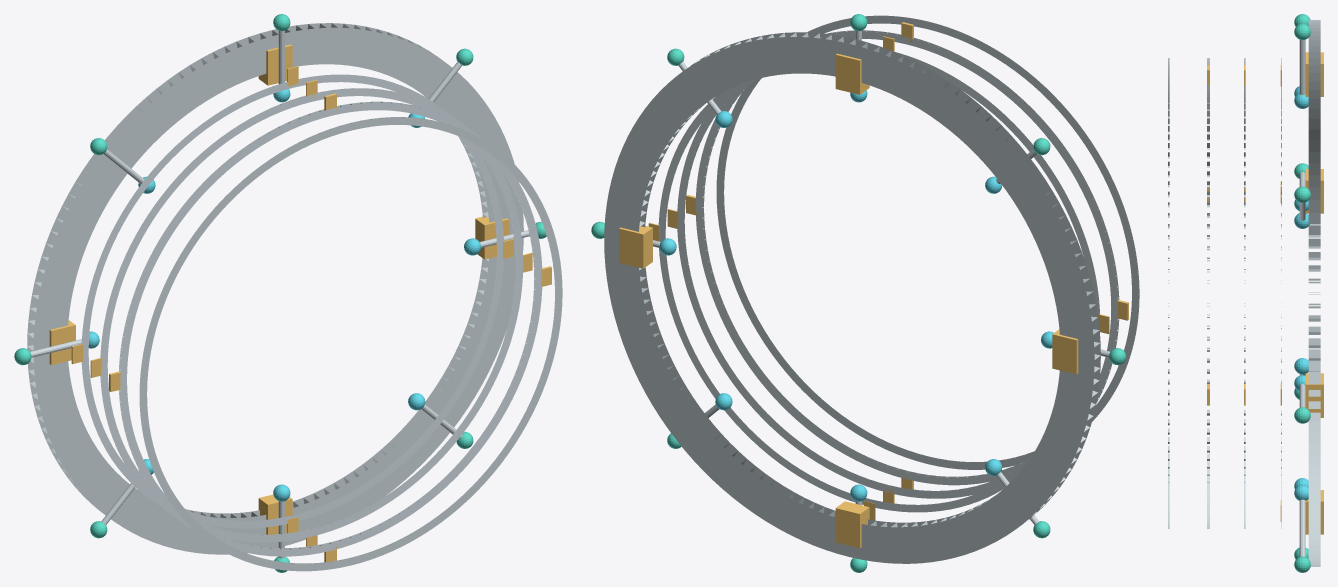
The model's file is CAGE-GAP-RING-fixture.glb.
3 renders of one model, left to right at view 1: azimuth 30°, elevation 25°; view 2: azimuth 150°, elevation 25°; view 3: azimuth 270°, elevation 25°, orthographic. The views are drawn at different scales.
Parts seen in each view (by area): view 1: metal, insert, amber, outside, inside; view 2: metal, insert, amber, outside, inside; view 3: metal, amber, insert, outside, inside.
Boxes of the visible parts, x1,y1,x2,y2 form: metal: (27, 23, 562, 571); insert: (81, 74, 542, 556); amber: (49, 44, 551, 562); outside: (14, 14, 546, 572); inside: (88, 89, 480, 501); metal: (604, 15, 1139, 563); insert: (658, 30, 1119, 512); amber: (619, 22, 1128, 548); outside: (591, 14, 1126, 572); inside: (659, 90, 1053, 501); metal: (1168, 20, 1320, 566); amber: (1207, 52, 1323, 534); insert: (1207, 58, 1281, 528); outside: (1294, 14, 1310, 572); inside: (1294, 86, 1309, 500).
Bounding box in the file's own units: 0.391 × 0.391 × 0.1025.
